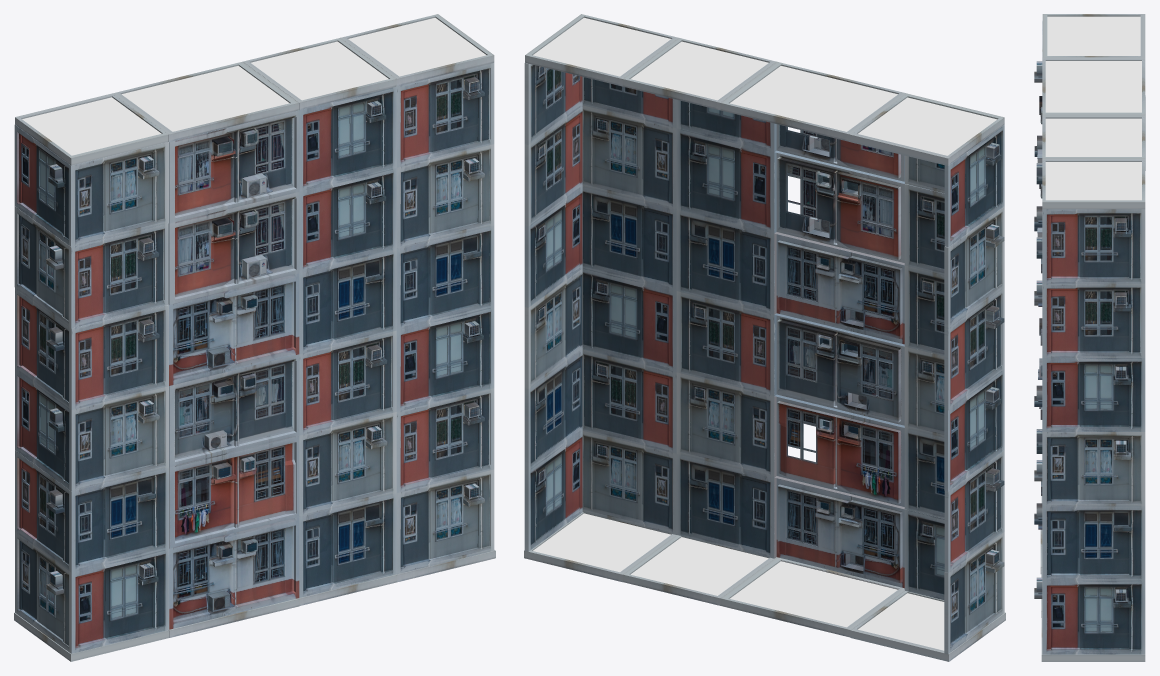
File: Montane_model_instances_02.glb
The picture shows the model from 3 angles, left to right: view 1: azimuth 30°, elevation 25°; view 2: azimuth 150°, elevation 25°; view 3: azimuth 270°, elevation 25°; orthographic projection. The views are drawn at different scales.
Parts seen in each view (by area): view 1: 00_roof_corner_02, 00_roof_large, 00_roof_corner_01, 00_roof_small, 00_floor_corner.001, 00_corner_04.001, 00_corner_01.001, 00_corner, 00_corner_02.002, 00_floor_large, 00_middle_large_04, 00_middle_large_02 (+12 smaller); view 2: 00_floor_large, 00_floor_corner, 00_floor_small, 00_floor_corner.001, 00_roof_corner_02, 00_corner_04, 00_corner_02, 00_corner_03, 00_corner_01, 00_roof_corner_01, 00_roof_large, 00_middle_large_02 (+12 smaller); view 3: 00_roof_corner_01, 00_floor_corner, 00_corner_01, 00_corner_04, 00_corner_02, 00_corner_03, 00_roof_large, 00_roof_corner_02, 00_roof_small, 00_corner_04.001, 00_middle_large_02.
Part boxes in pixels (x1,y1,x2,y2): 00_roof_corner_02: (14, 93, 168, 246); 00_roof_large: (112, 61, 299, 223); 00_roof_corner_01: (340, 14, 494, 167); 00_roof_small: (243, 38, 396, 191); 00_floor_corner.001: (14, 531, 169, 661); 00_corner_04.001: (14, 206, 168, 328); 00_corner_01.001: (15, 450, 168, 572); 00_corner: (15, 288, 168, 409); 00_corner_02.002: (15, 369, 168, 491); 00_floor_large: (169, 517, 299, 637); 00_middle_large_04: (168, 192, 299, 304); 00_middle_large_02: (169, 354, 299, 467); 00_floor_large: (720, 476, 904, 637); 00_floor_corner: (524, 431, 676, 582); 00_floor_small: (622, 454, 774, 605); 00_floor_corner.001: (850, 509, 1005, 661); 00_roof_corner_02: (850, 93, 1004, 247); 00_corner_04: (524, 105, 676, 226); 00_corner_02: (524, 268, 676, 388); 00_corner_03: (524, 187, 676, 307); 00_corner_01: (524, 349, 676, 470); 00_roof_corner_01: (524, 14, 678, 144); 00_roof_large: (720, 61, 906, 183); 00_middle_large_02: (774, 313, 904, 427); 00_roof_corner_01: (1034, 159, 1145, 283); 00_floor_corner: (1034, 577, 1145, 661); 00_corner_01: (1034, 503, 1145, 580); 00_corner_04: (1034, 280, 1145, 357); 00_corner_02: (1036, 429, 1145, 506); 00_corner_03: (1041, 358, 1145, 431); 00_roof_large: (1037, 57, 1145, 162); 00_roof_corner_02: (1034, 14, 1145, 82); 00_roof_small: (1036, 115, 1145, 184); 00_corner_04.001: (1034, 95, 1145, 170); 00_middle_large_02: (1038, 318, 1042, 379).
Size of the model in its own units: 24.27 by 26.6 by 5.84.
Materials: 13 (12 with a texture image).
